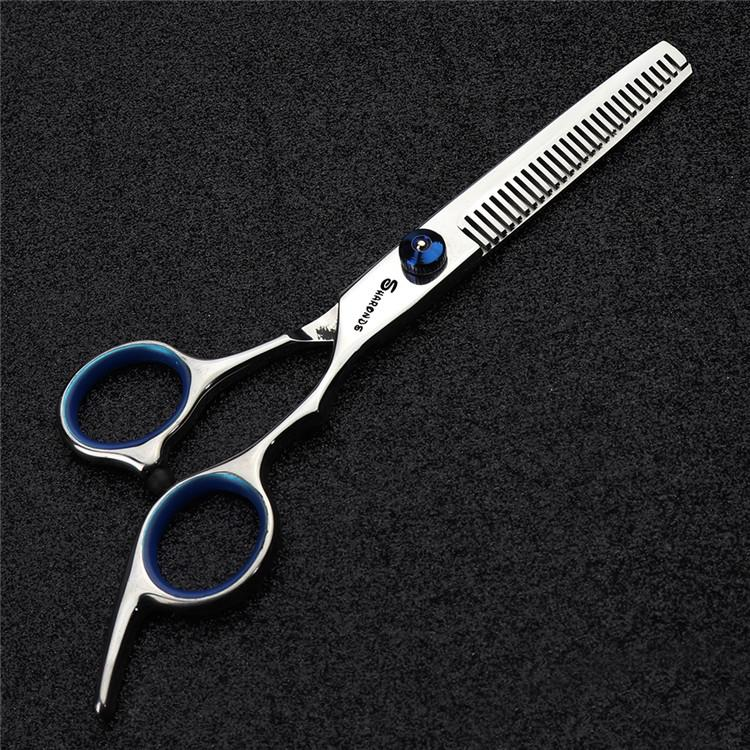scissor: (99, 20, 750, 660)
